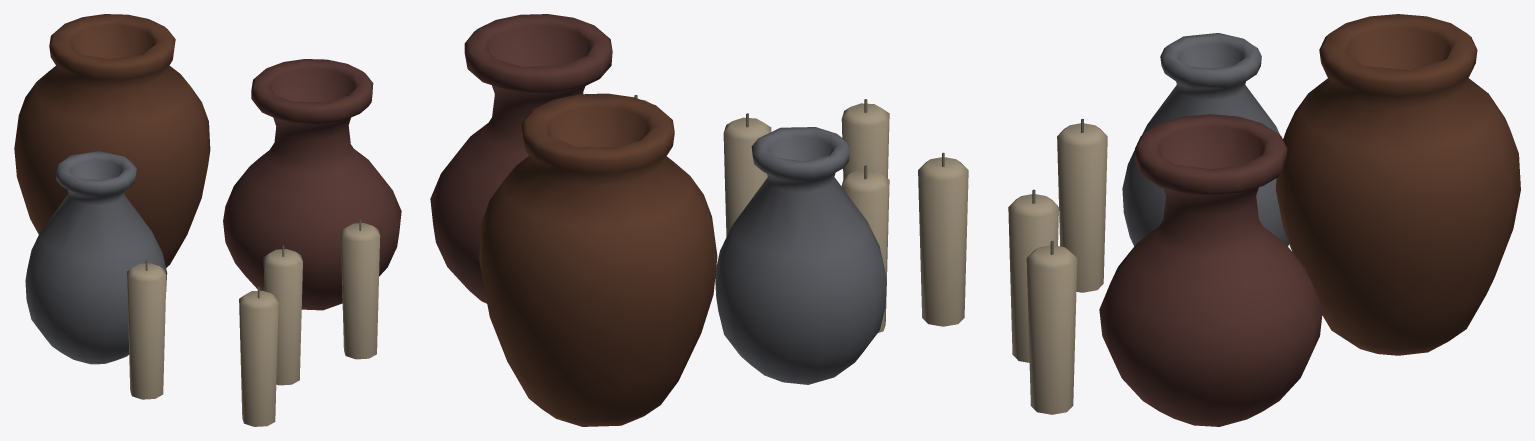
The model's file is VasosEVelas.fbx.
3 views of the same model, side by side, from view 1: azimuth 30°, elevation 25°; view 2: azimuth 150°, elevation 25°; view 3: azimuth 270°, elevation 25° (orthographic). The views are drawn at different scales.
Parts seen in each view (by area): view 1: VasosEVelas_LOD0; view 2: VasosEVelas_LOD0; view 3: VasosEVelas_LOD0.
Boxes of the visible parts, x1,y1,x2,y2 form: VasosEVelas_LOD0: [14, 14, 401, 426]; VasosEVelas_LOD0: [430, 14, 889, 426]; VasosEVelas_LOD0: [918, 14, 1520, 426].
Size of what is drawn, in the model's own units: 67.18 by 42.97 by 79.44.
